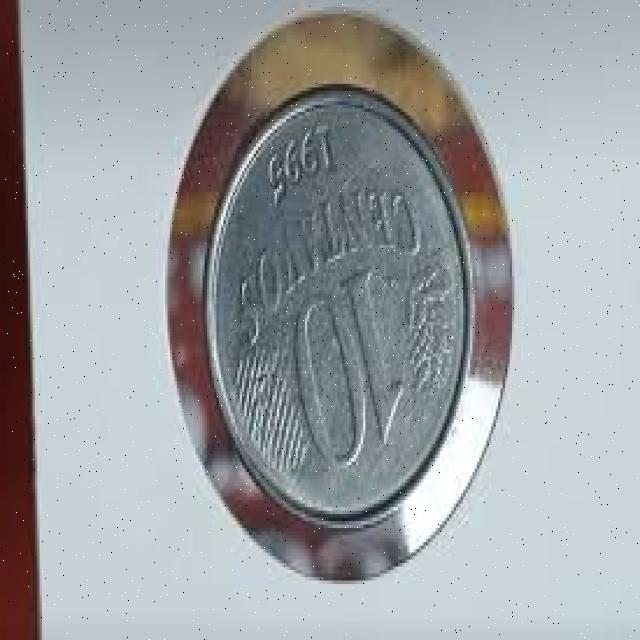10 cent: (204, 90, 474, 526)
